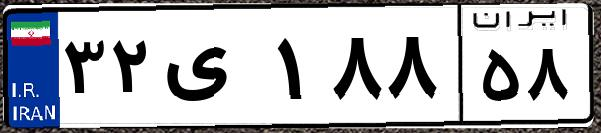1: (270, 28, 330, 110)
2: (110, 28, 158, 98)
3: (57, 26, 110, 100)
5: (475, 38, 525, 113)
8: (385, 28, 445, 110), (330, 28, 385, 110), (525, 38, 570, 115)
ی: (158, 20, 270, 120)
